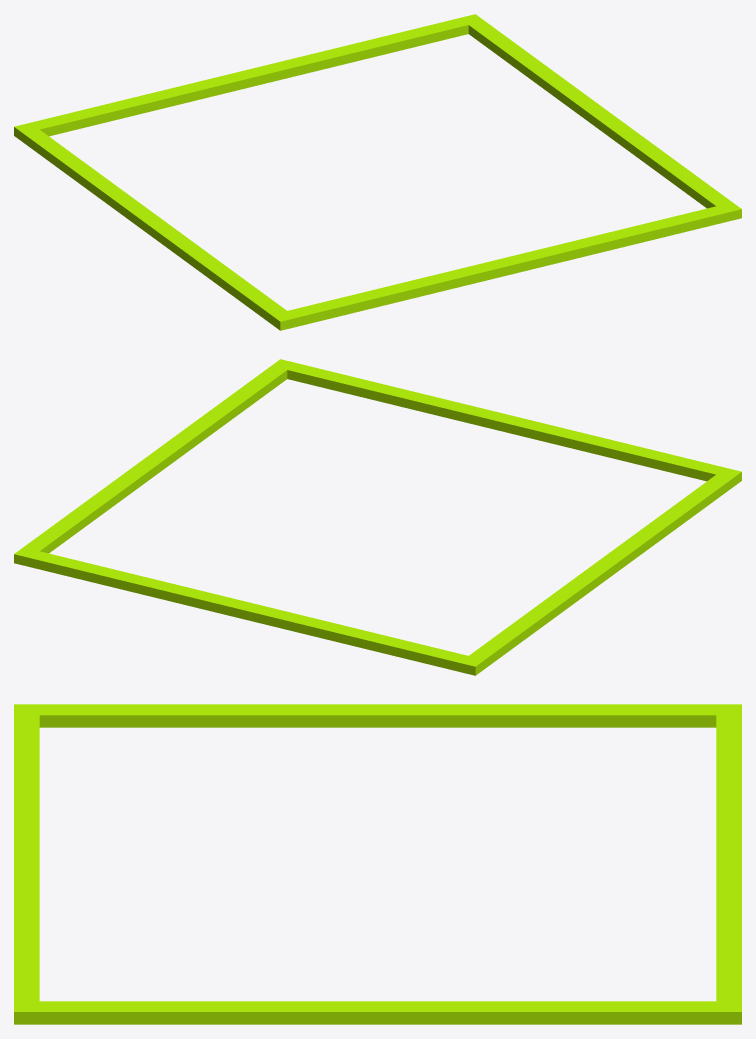
File: frame-skin-8.glb
The picture shows the model from 3 angles, top to bottom: view 1: azimuth 30°, elevation 25°; view 2: azimuth 150°, elevation 25°; view 3: azimuth 270°, elevation 25°; orthographic projection. The views are drawn at different scales.
Parts seen in each view (by area): view 1: frame-skin-8; view 2: frame-skin-8; view 3: frame-skin-8.
Boxes of the visible parts, x1,y1,x2,y2 form: frame-skin-8: (14,14,741,330); frame-skin-8: (14,359,741,675); frame-skin-8: (14,704,741,1024).
Size of the model in its own units: 17 by 0.32 by 17.
1 material, 1 textured.
